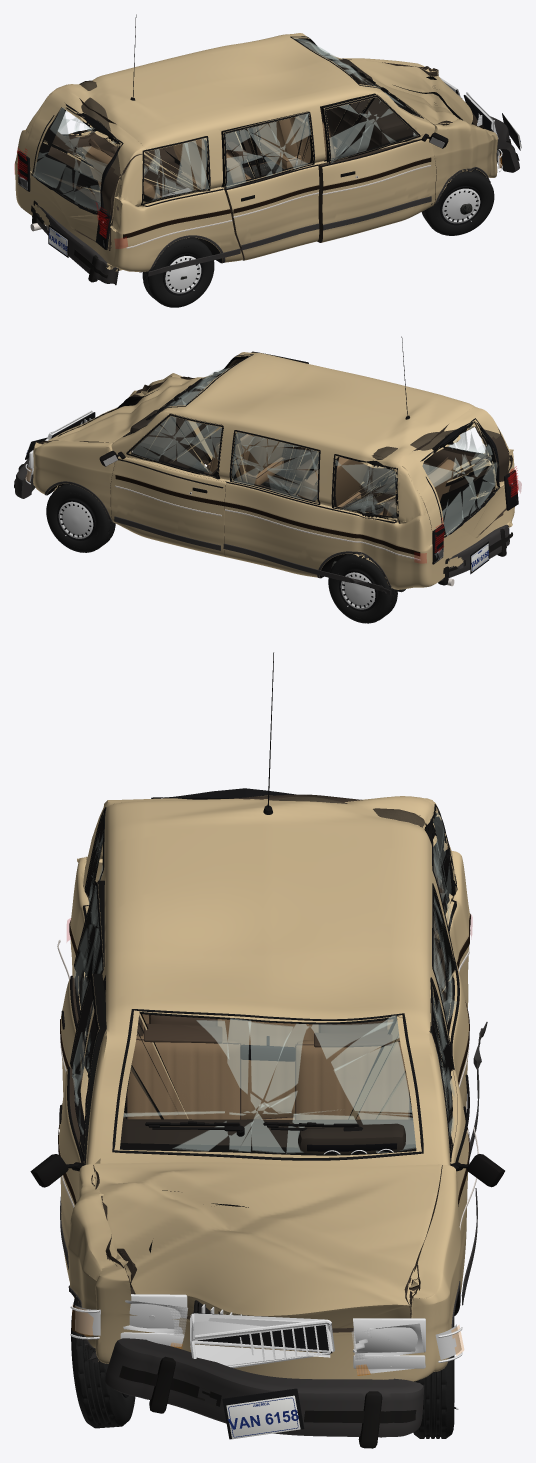
The model's file is minivan86_front_corner_R_d1.glb.
3 renders of one model, top to bottom at view 1: azimuth 30°, elevation 25°; view 2: azimuth 150°, elevation 25°; view 3: azimuth 270°, elevation 25°, orthographic. The views are drawn at different scales.
Parts seen in each view (by area): view 1: Body, Interior, Door_FR, Door_SR, Liftgate, Hood, Glass_Liftgate, Wheel_RR_mesh, Wheel_FR_mesh, Glass, Glass_SR, Trim (+9 smaller); view 2: Body, Door_FL, Interior, Glass, Trim, Liftgate, Glass_Liftgate, Wheel_FL_mesh, Wheel_RL_mesh, Hood, Glass_FL, Trim_FL (+6 smaller); view 3: Body, Hood, Interior, Glass, Ends, Bumper_F, Trim, Door_FR, Wheel_FR_mesh, Door_FL, Trim_FL, Door_SR (+4 smaller).
Part boxes in pixels (x1=…): Body: x1=15, y1=33, x2=498, y2=271; Interior: x1=82, y1=59, x2=413, y2=198; Door_FR: x1=317, y1=93, x2=436, y2=242; Door_SR: x1=221, y1=111, x2=319, y2=260; Liftgate: x1=25, y1=86, x2=145, y2=250; Hood: x1=349, y1=60, x2=472, y2=124; Glass_Liftgate: x1=31, y1=103, x2=123, y2=214; Wheel_RR_mesh: x1=142, y1=237, x2=214, y2=307; Wheel_FR_mesh: x1=421, y1=170, x2=494, y2=235; Glass: x1=58, y1=36, x2=423, y2=200; Glass_SR: x1=223, y1=113, x2=314, y2=189; Trim: x1=123, y1=14, x2=489, y2=276; Body: x1=33, y1=352, x2=514, y2=589; Door_FL: x1=110, y1=413, x2=226, y2=556; Interior: x1=130, y1=385, x2=456, y2=516; Glass: x1=123, y1=354, x2=477, y2=521; Trim: x1=44, y1=336, x2=517, y2=595; Liftgate: x1=394, y1=407, x2=509, y2=538; Glass_Liftgate: x1=420, y1=418, x2=500, y2=537; Wheel_FL_mesh: x1=46, y1=484, x2=115, y2=552; Wheel_RL_mesh: x1=328, y1=554, x2=397, y2=623; Hood: x1=47, y1=376, x2=199, y2=442; Glass_FL: x1=131, y1=413, x2=223, y2=478; Trim_FL: x1=99, y1=414, x2=224, y2=550; Body: x1=68, y1=796, x2=469, y2=1381; Hood: x1=94, y1=1162, x2=441, y2=1328; Interior: x1=120, y1=1014, x2=415, y2=1154; Glass: x1=89, y1=812, x2=456, y2=1160; Ends: x1=70, y1=1294, x2=462, y2=1439; Bumper_F: x1=105, y1=1338, x2=423, y2=1448; Trim: x1=57, y1=652, x2=487, y2=1363; Door_FR: x1=59, y1=973, x2=106, y2=1298; Wheel_FR_mesh: x1=71, y1=1297, x2=135, y2=1428; Door_FL: x1=430, y1=977, x2=468, y2=1293; Trim_FL: x1=430, y1=977, x2=504, y2=1305; Door_SR: x1=61, y1=880, x2=104, y2=1093.
Size of the model in its own units: 4.5 by 2.44 by 2.07.
34 materials, 5 textured.
